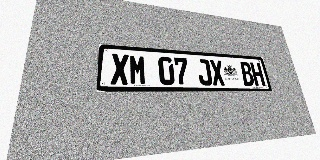0: (158, 56, 175, 85)
7: (173, 57, 190, 85)
B: (239, 62, 255, 86)
H: (250, 62, 266, 86)
J: (196, 59, 213, 85)
M: (129, 54, 147, 85)
X: (111, 53, 129, 85), (209, 60, 226, 86)
